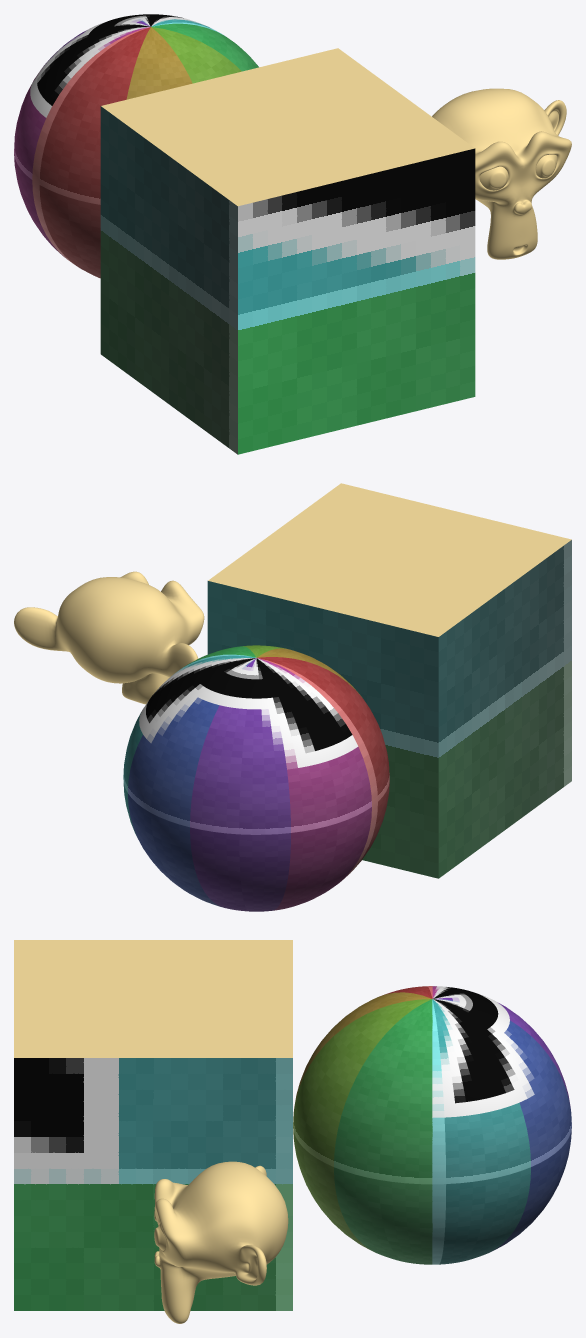
The model's file is seamy.glb.
3 views of the same model, one above another, from view 1: azimuth 30°, elevation 25°; view 2: azimuth 150°, elevation 25°; view 3: azimuth 270°, elevation 25° (orthographic). The views are drawn at different scales.
Parts seen in each view (by area): view 1: Base, Shade, Monkey; view 2: Base, Shade, Monkey; view 3: Base, Shade, Monkey.
Part boxes in pixels (left/top/right/bottom): Base: left=100, top=48, right=475, bottom=454; Shade: left=14, top=14, right=258, bottom=278; Monkey: left=432, top=88, right=571, bottom=259; Base: left=207, top=483, right=571, bottom=878; Shade: left=123, top=645, right=389, bottom=911; Monkey: left=14, top=571, right=204, bottom=704; Base: left=14, top=940, right=292, bottom=1310; Shade: left=293, top=986, right=571, bottom=1264; Monkey: left=154, top=1161, right=288, bottom=1323.
Size of the model in its own units: 0.3797 by 0.2 by 0.4.
Materials: 2 (1 with a texture image).
